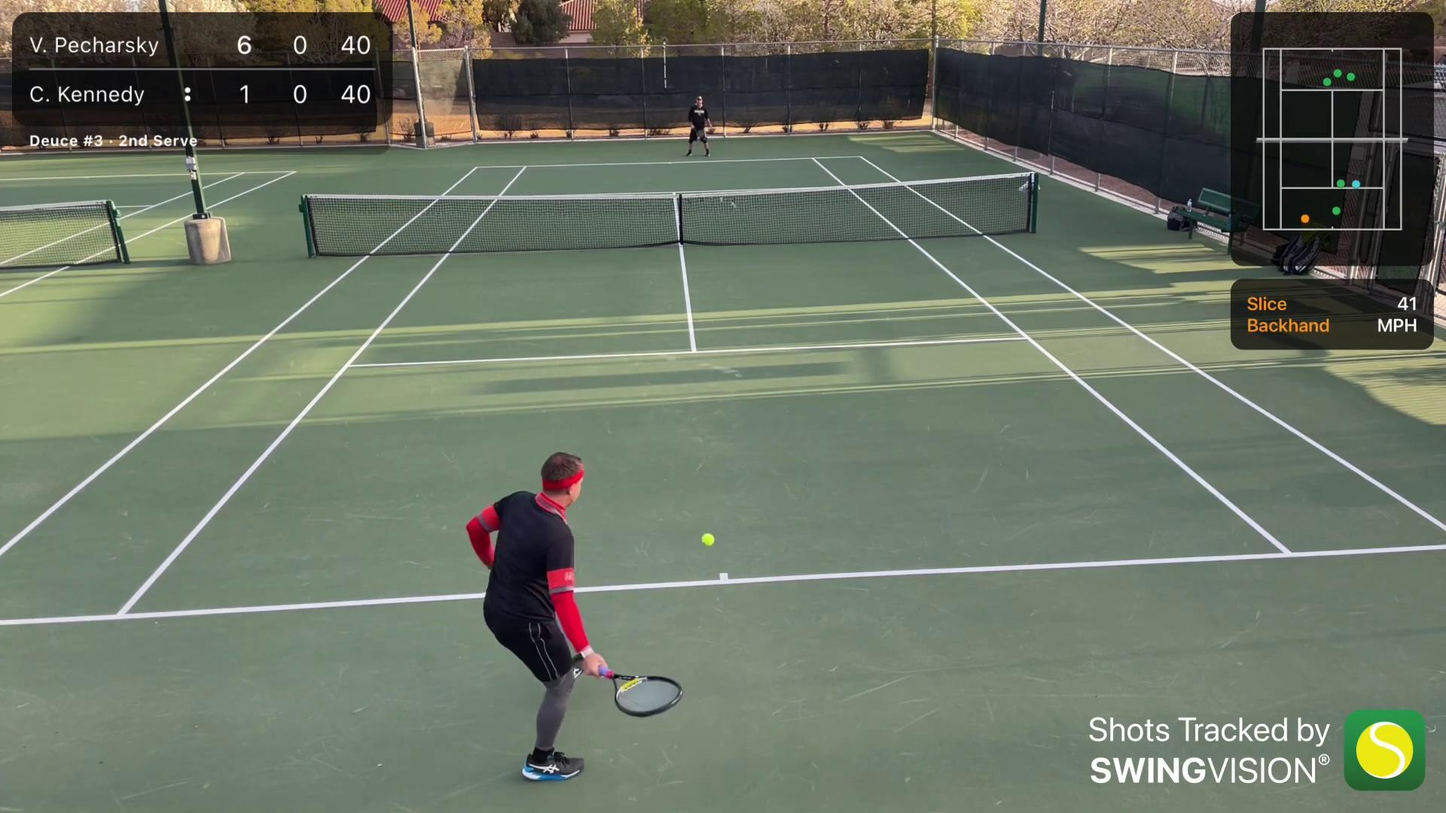ball: (697, 528, 719, 550)
